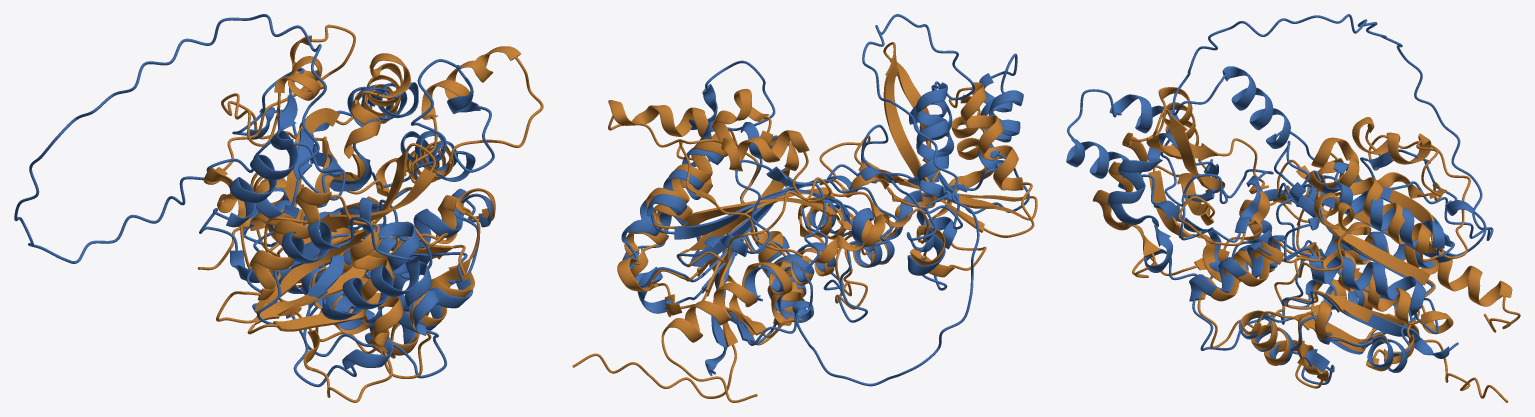
3 renders of one model, left to right at view 1: azimuth 30°, elevation 25°; view 2: azimuth 150°, elevation 25°; view 3: azimuth 270°, elevation 25°, orthographic. The views are drawn at different scales.
Bounding box in the file's own units: 73.83 × 56.82 × 72.53.
